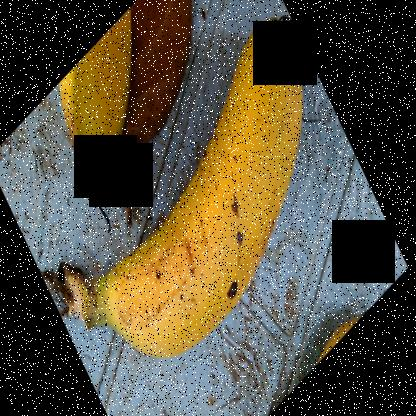ripe: (97, 15, 303, 367)
